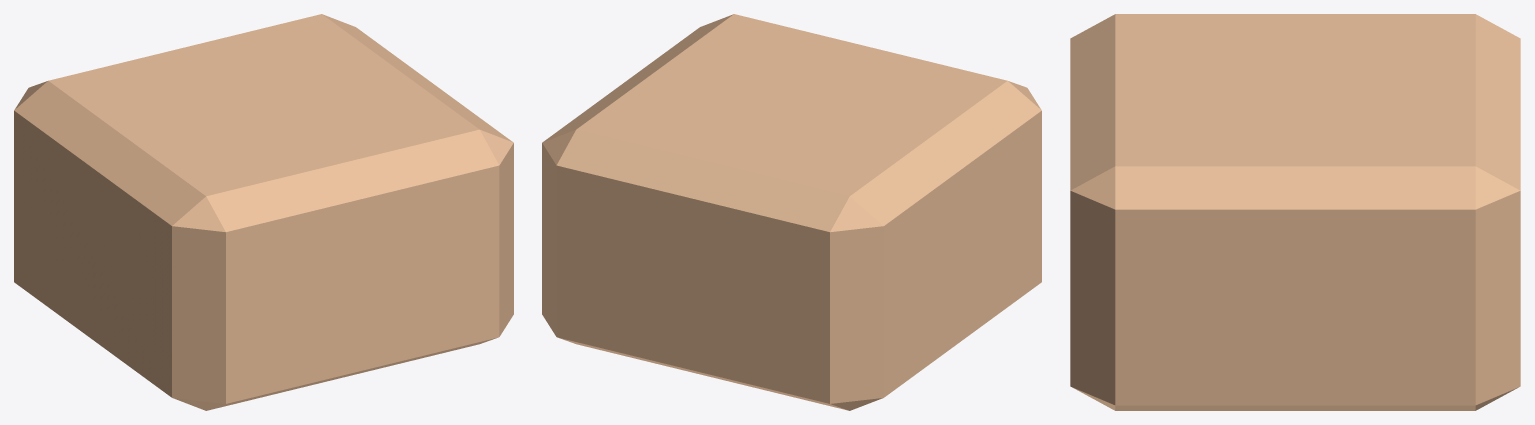
3 renders of one model, left to right at view 1: azimuth 30°, elevation 25°; view 2: azimuth 150°, elevation 25°; view 3: azimuth 270°, elevation 25°, orthographic. The views are drawn at different scales.
Visible parts, largest first — view 1: Cube; view 2: Cube; view 3: Cube.
Part boxes in pixels (x1,y1,x2,y2): Cube: (14, 14, 513, 410); Cube: (542, 14, 1041, 410); Cube: (1070, 14, 1520, 410).
Size of the model in its own units: 2.5 by 1.5 by 2.5.
